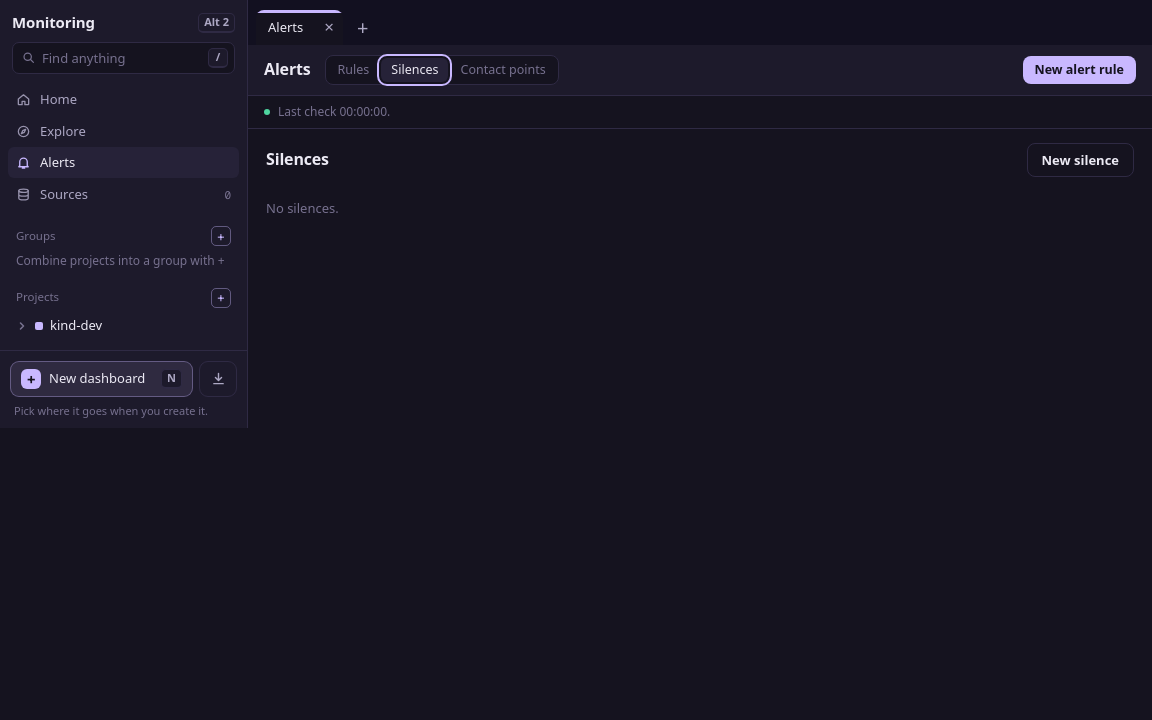
Scenario: silences › matchers are checked as you type
Earlier steps of the test are not shown.
Click the button "New silence" at (1080, 160), box x1=1026 y1=142 x2=1134 y2=177
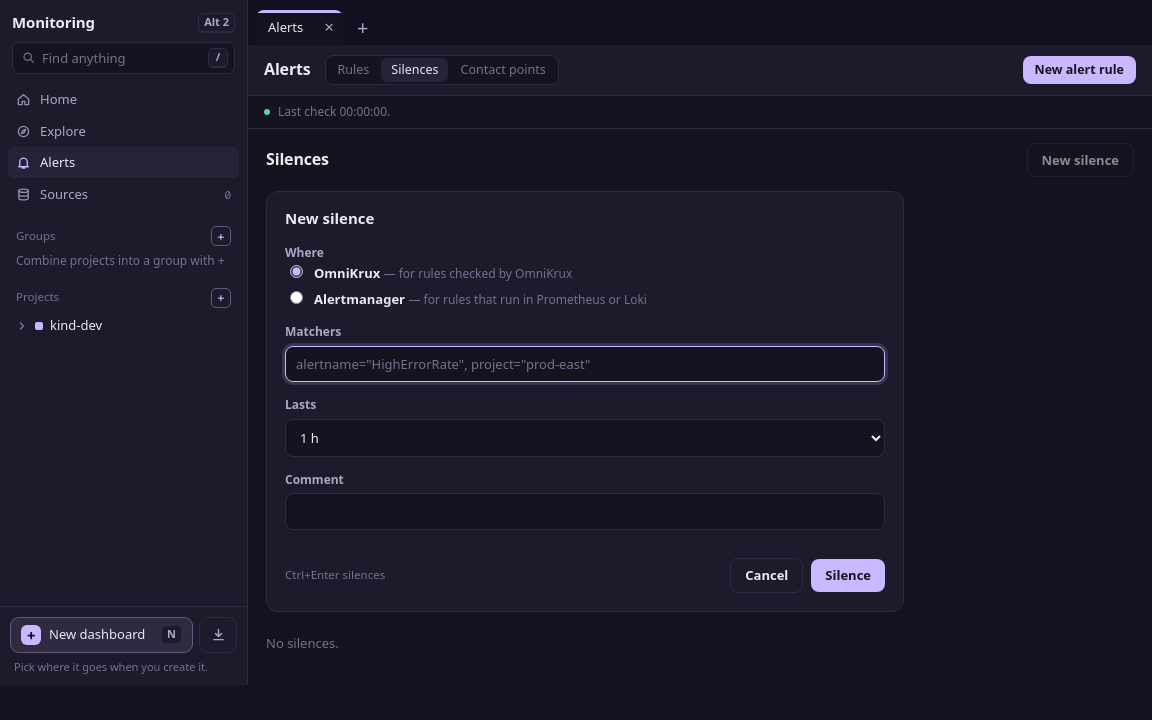
Type "alertname=bad" into the field labelled "Matchers" at (585, 364), box x1=285 y1=346 x2=885 y2=382
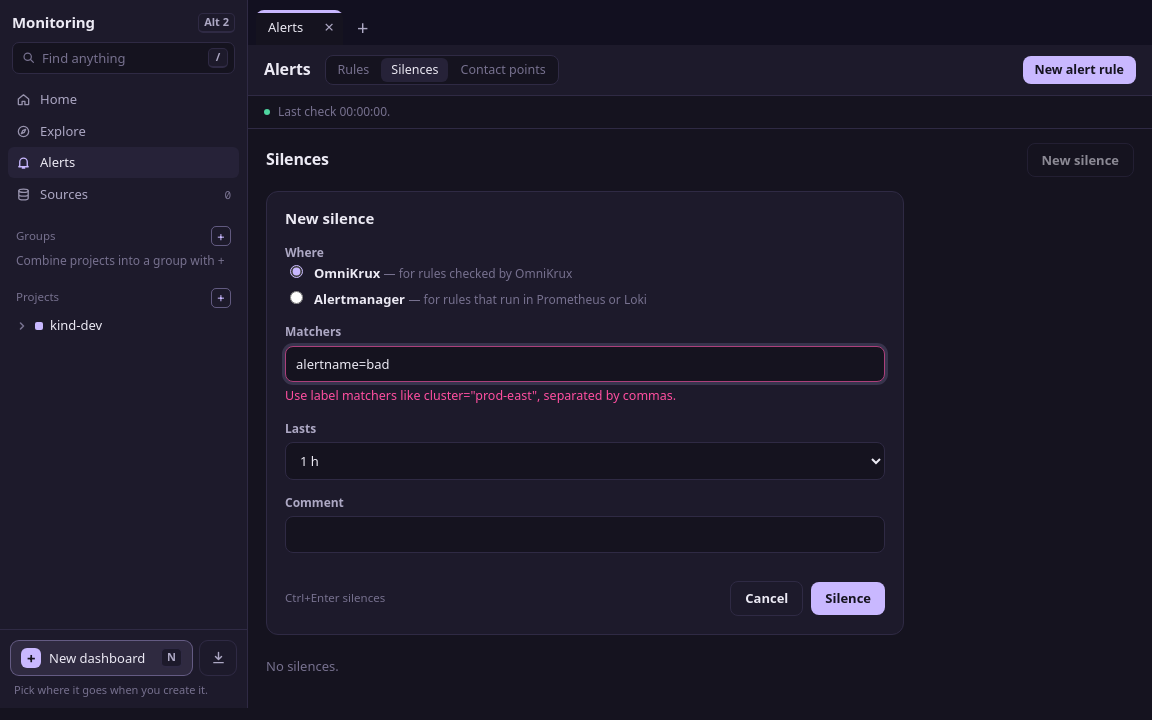
Expected: the text "Use label matchers like cluster=\"prod-east\", separated by commas." is shown, x1=285 y1=387 x2=676 y2=404
Replace the text in the field labelled "Matchers" with "alertname=\"Slow\"" at (585, 364), box x1=285 y1=346 x2=885 y2=382
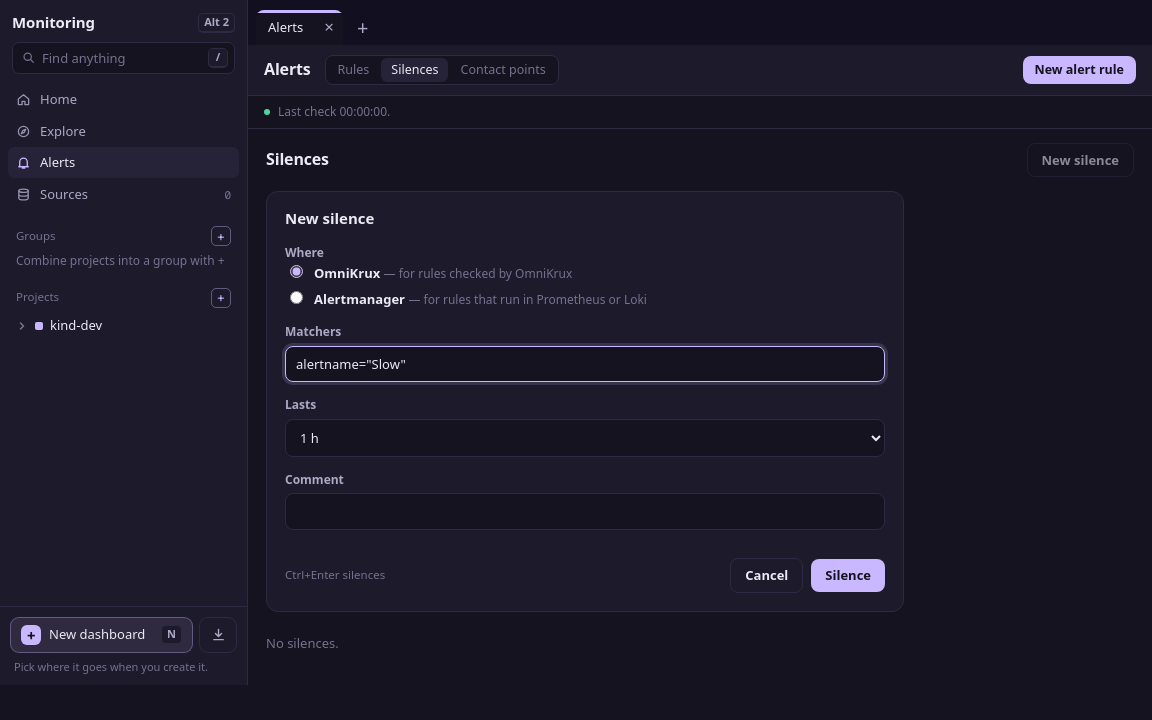
Expected: the text "Use label matchers" is not shown
Expected: the field labelled "Matchers" does not have attribute aria-invalid, x1=285 y1=346 x2=885 y2=382
Select "Until…" in the dropdown labelled "Lasts" at (585, 438), box x1=285 y1=419 x2=885 y2=457
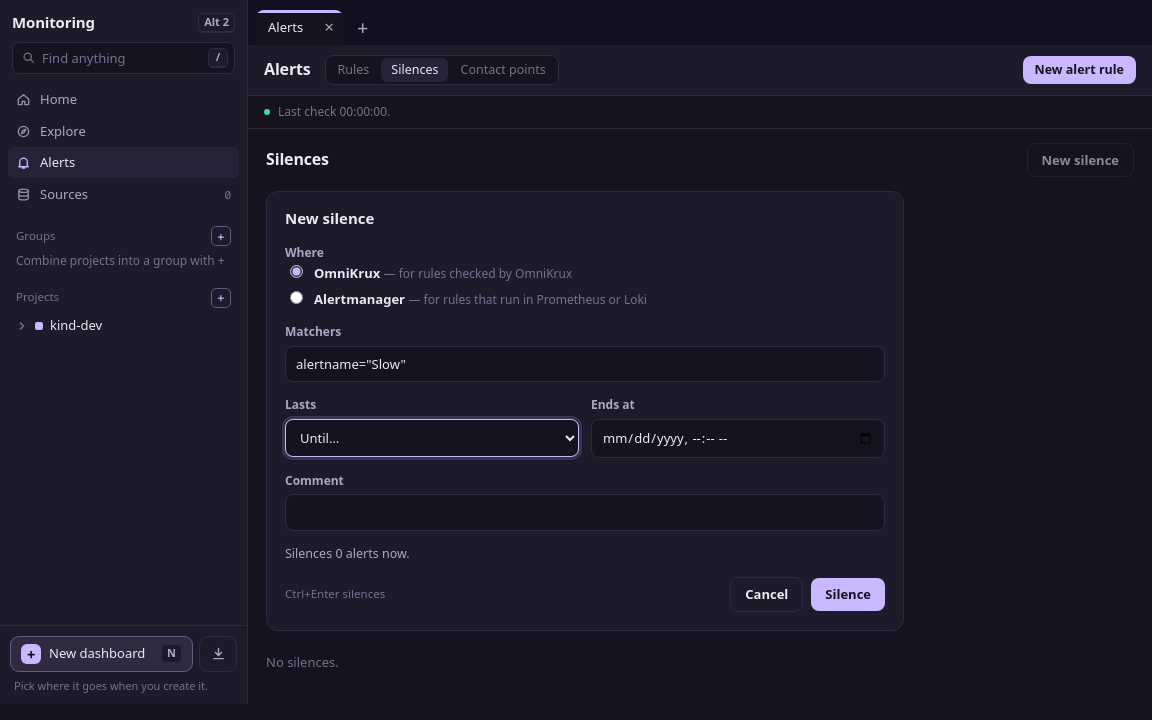
Expected: the field labelled "Ends at" is shown, x1=591 y1=419 x2=885 y2=458
